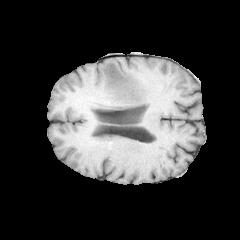glioma: (100, 61, 150, 110)
